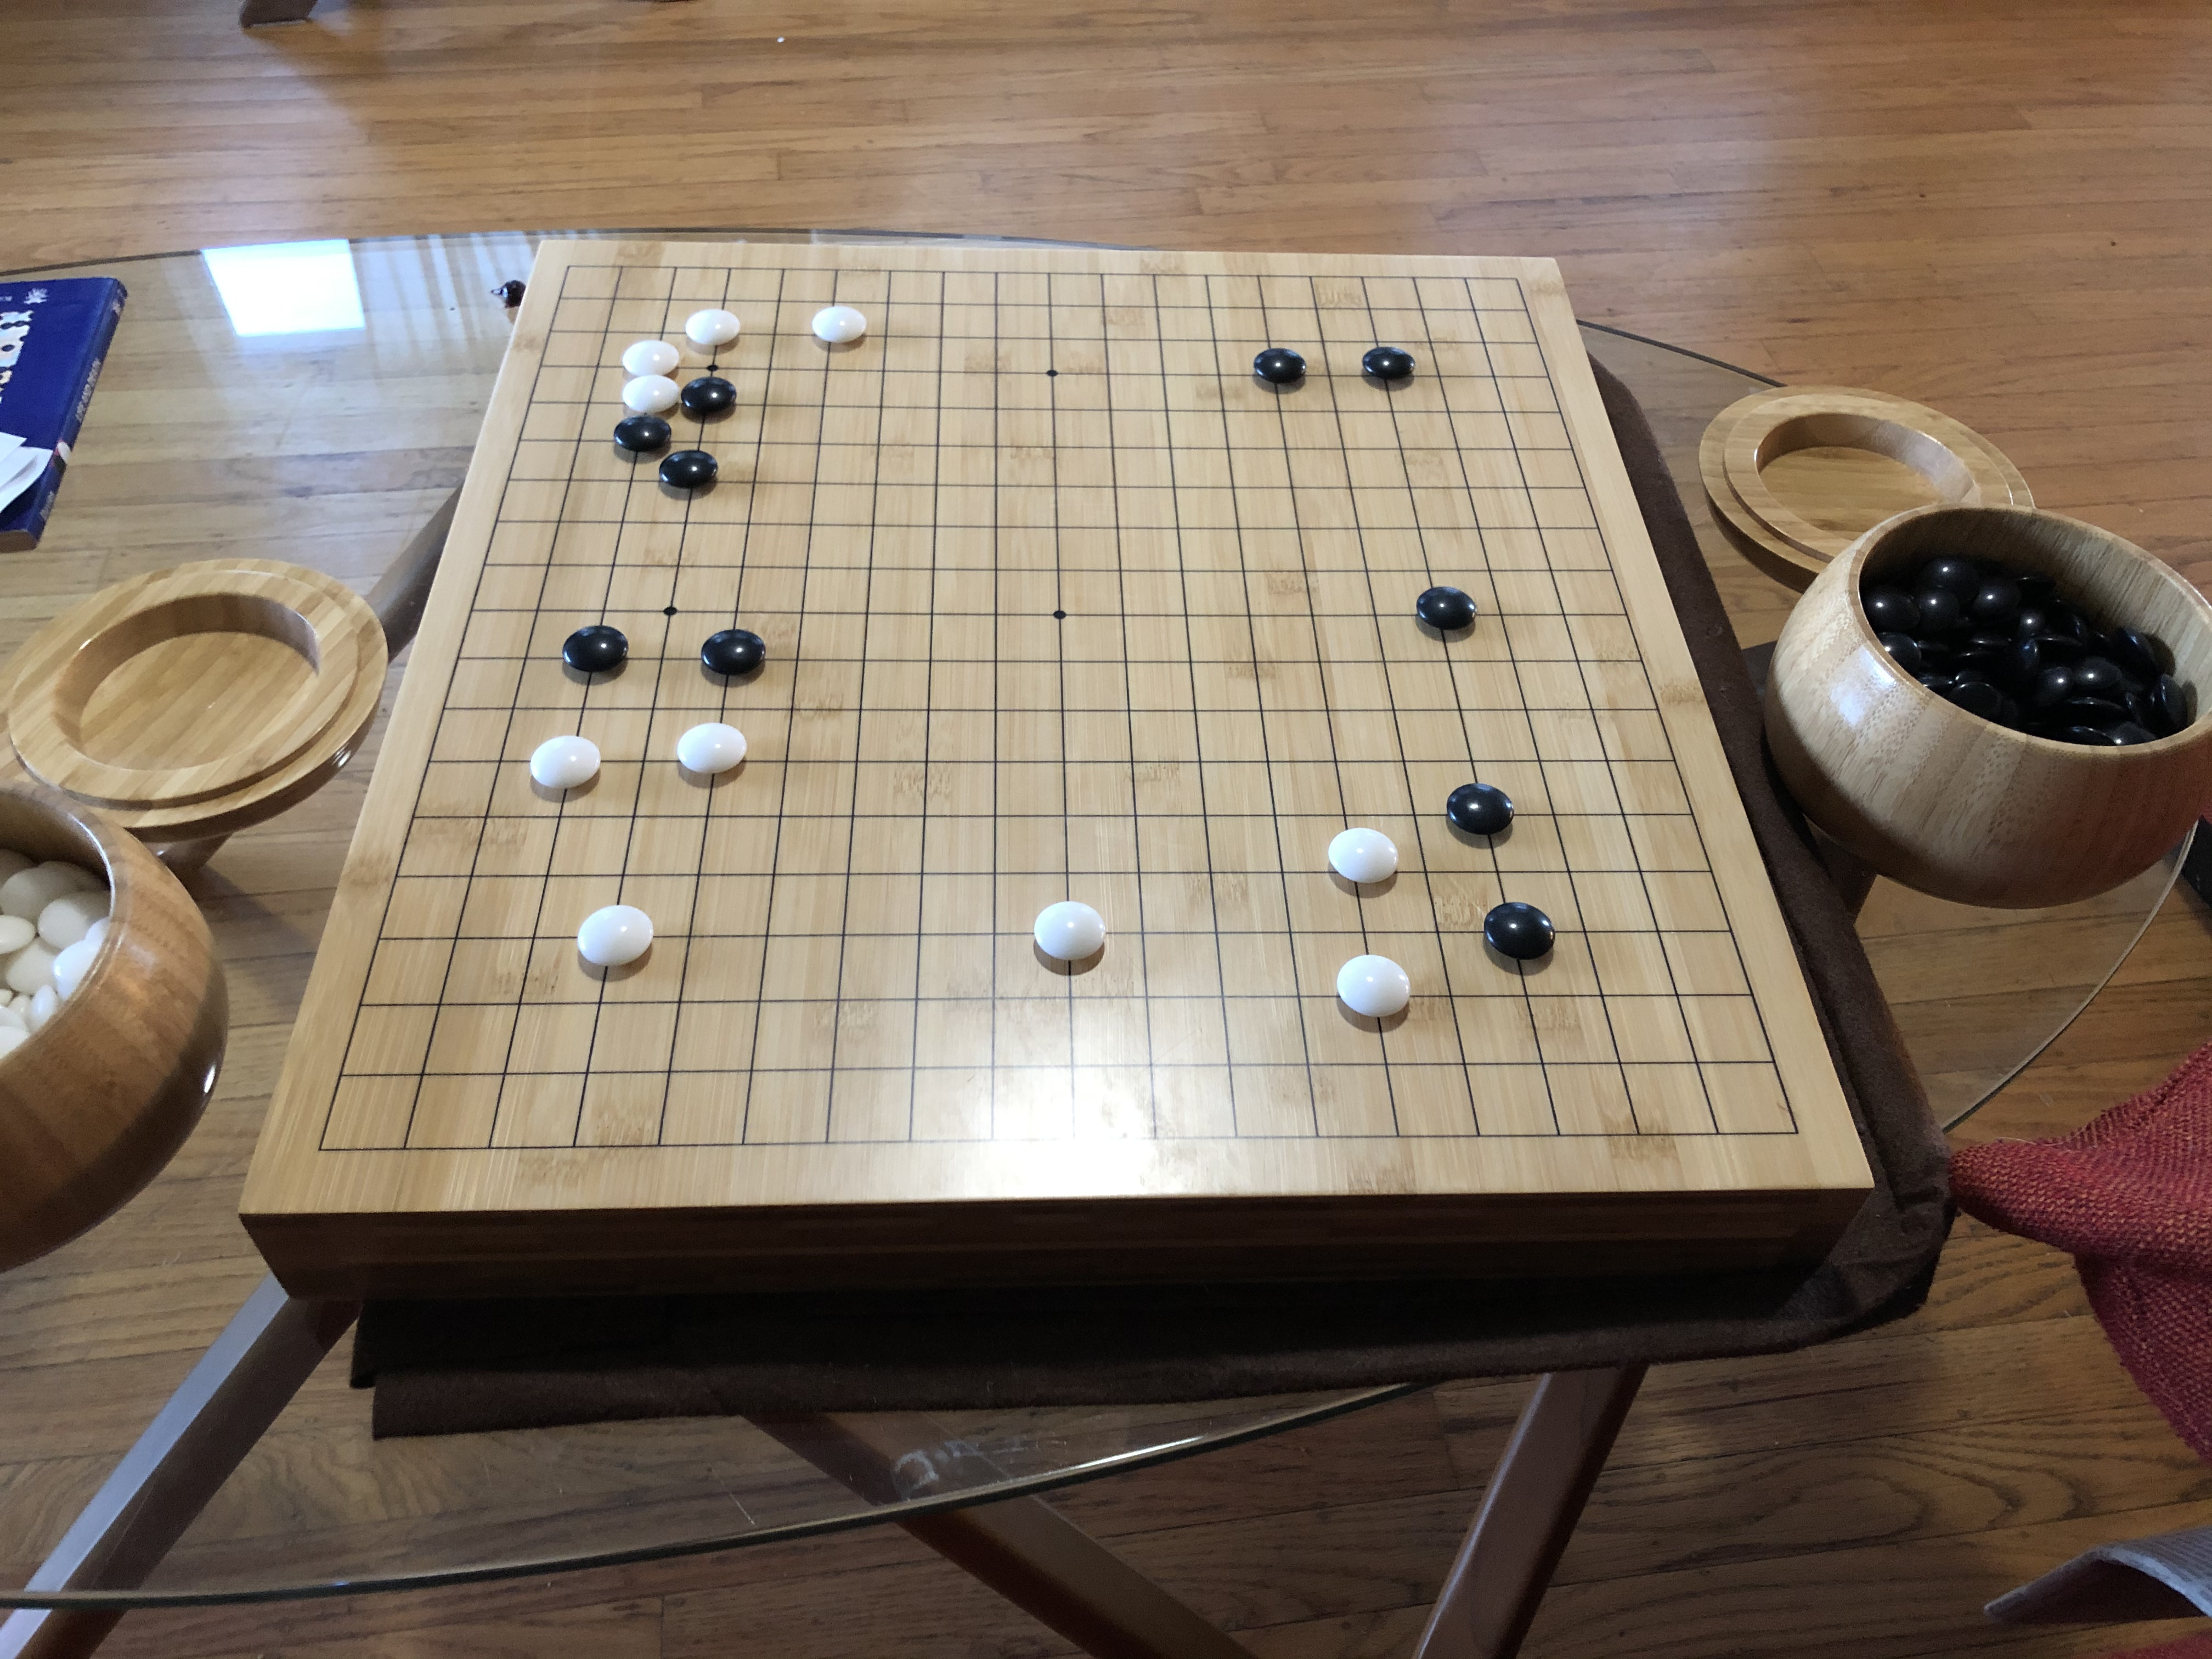stone_1: (1482, 901, 1557, 960), (1444, 782, 1517, 836), (561, 624, 629, 678), (700, 627, 768, 678), (1414, 586, 1479, 629), (658, 450, 721, 488), (611, 415, 672, 453), (1252, 347, 1308, 385), (681, 376, 737, 413), (1360, 345, 1418, 380)
stone_2: (1332, 953, 1411, 1021), (577, 904, 655, 969), (1033, 901, 1108, 962), (1324, 828, 1400, 887), (529, 734, 603, 789), (676, 721, 749, 775), (683, 308, 742, 347), (620, 340, 679, 378), (622, 375, 681, 413), (810, 305, 867, 343)
